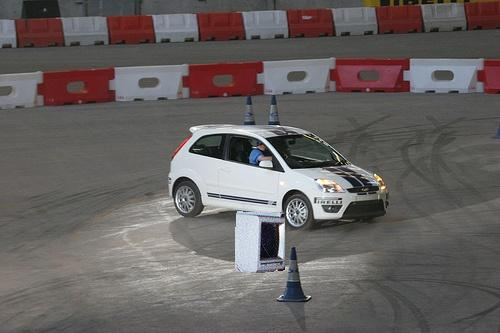tampered: (236, 212, 285, 273)
